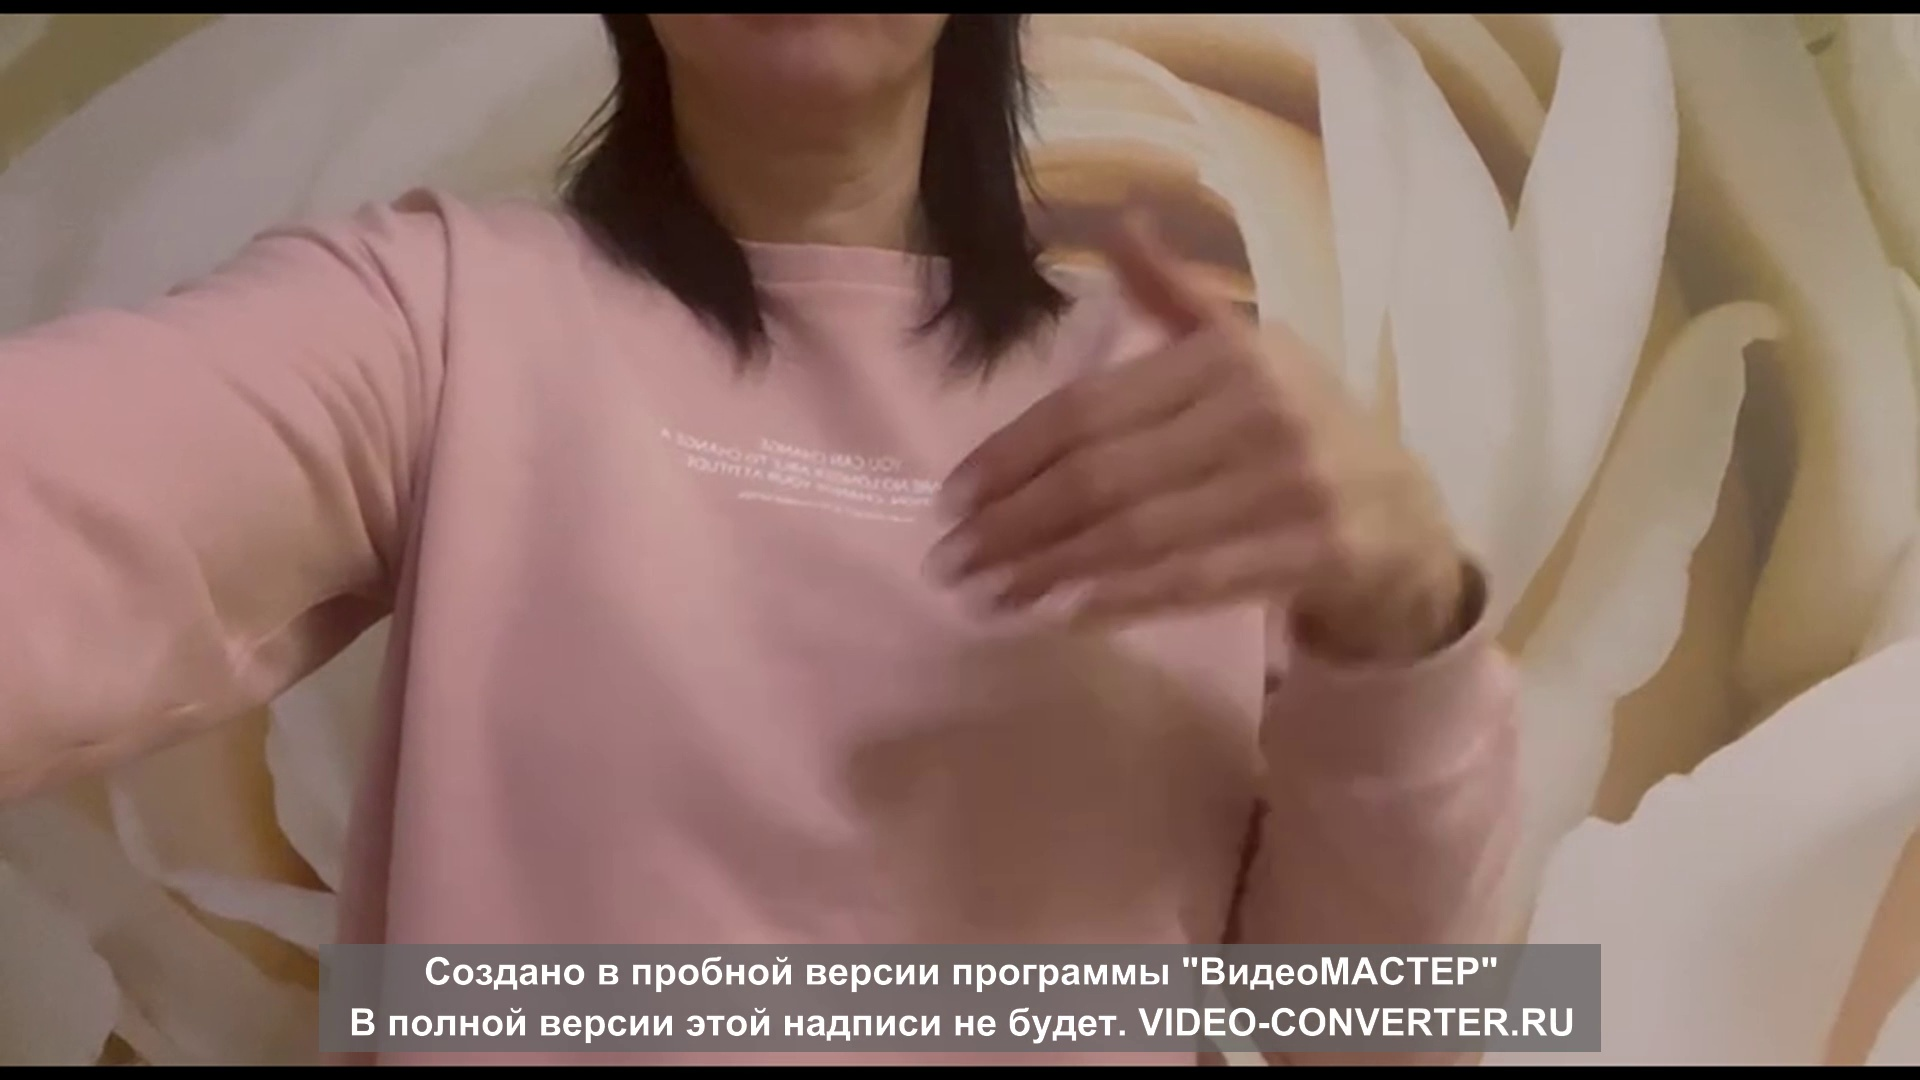Кисть: (919, 212, 1424, 636)
